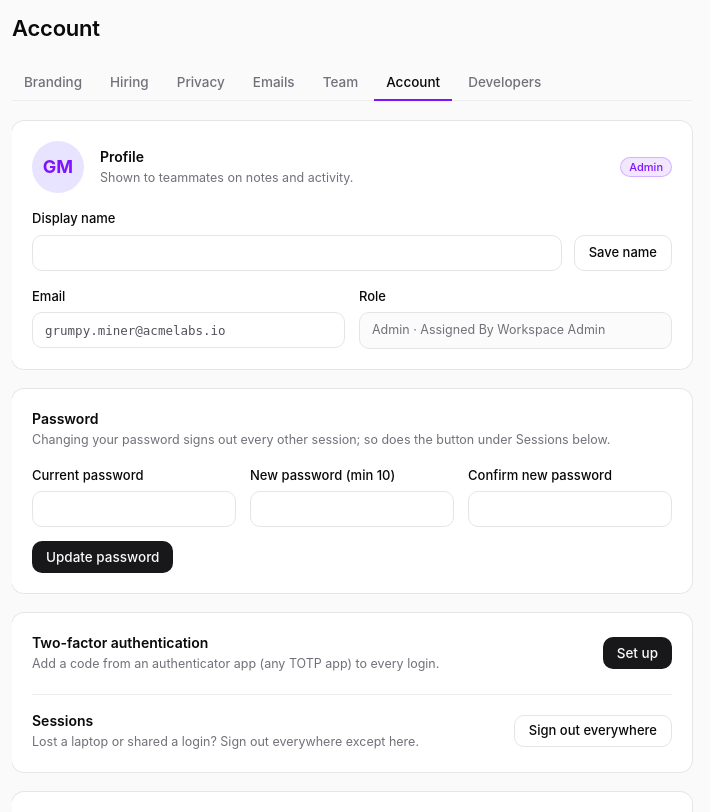
Test case: AccountPage › changes the password when confirmation matches
Type "old-password-1" into the password field labelled "Current password" at (134, 509), box [32,491,236,527]
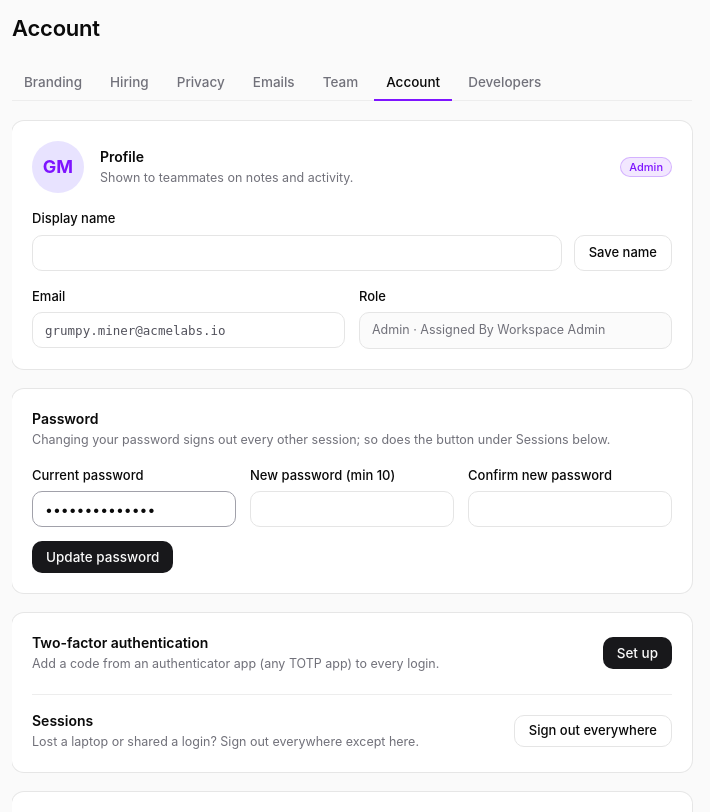
Type "new-password-12" into the password field labelled "New password (min 10)" at (352, 509), box [250,491,454,527]
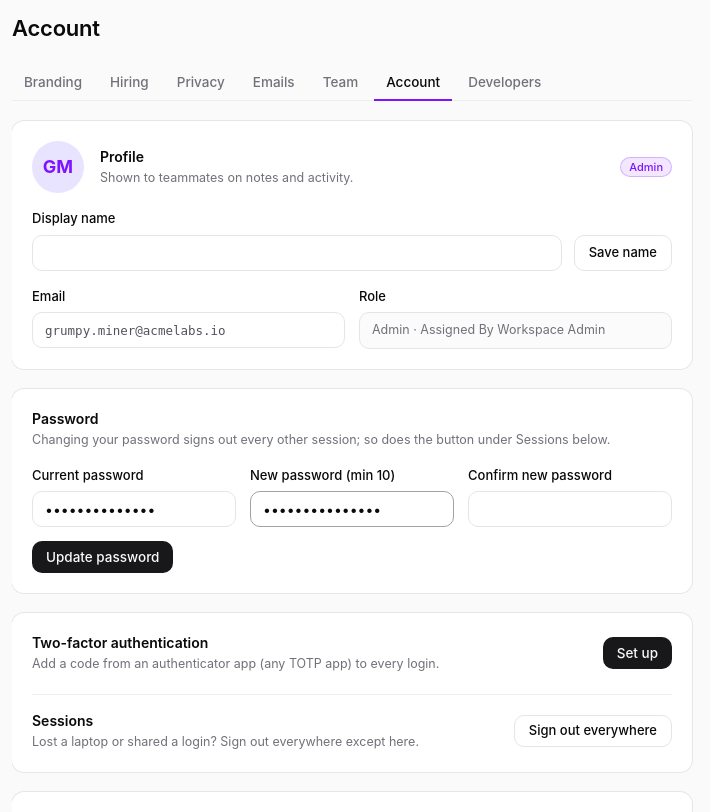
Type "new-password-12" into the password field labelled "Confirm new password" at (570, 509), box [468,491,672,527]
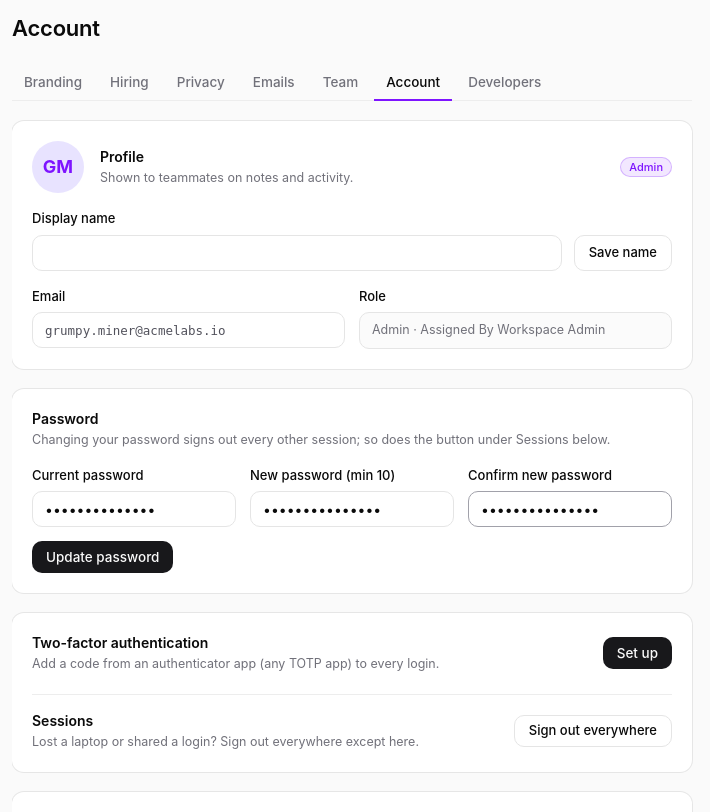
Click the button "Update password" at (103, 557), box [32,541,174,573]
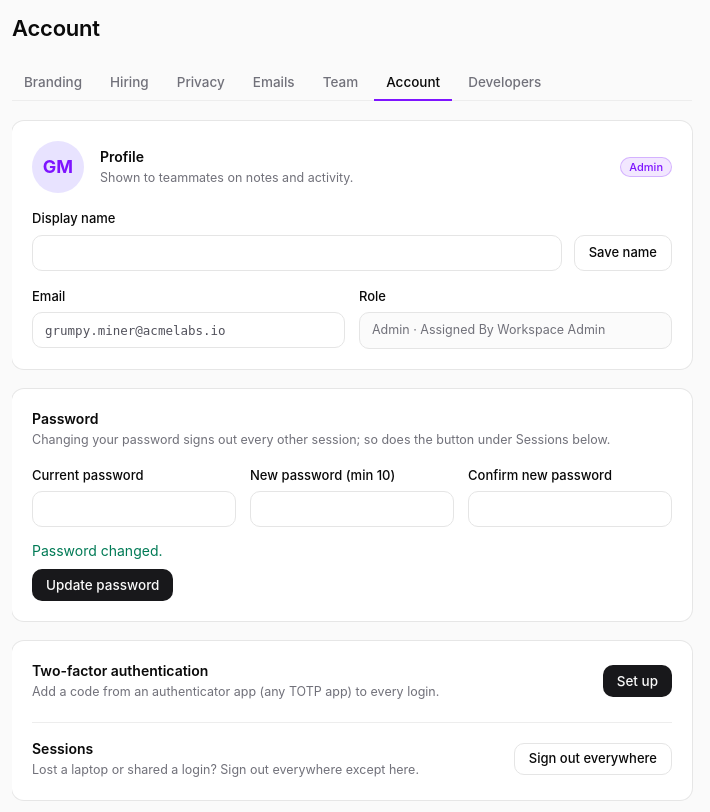
Expected: the text "Password changed." is shown, [32,542,162,559]
